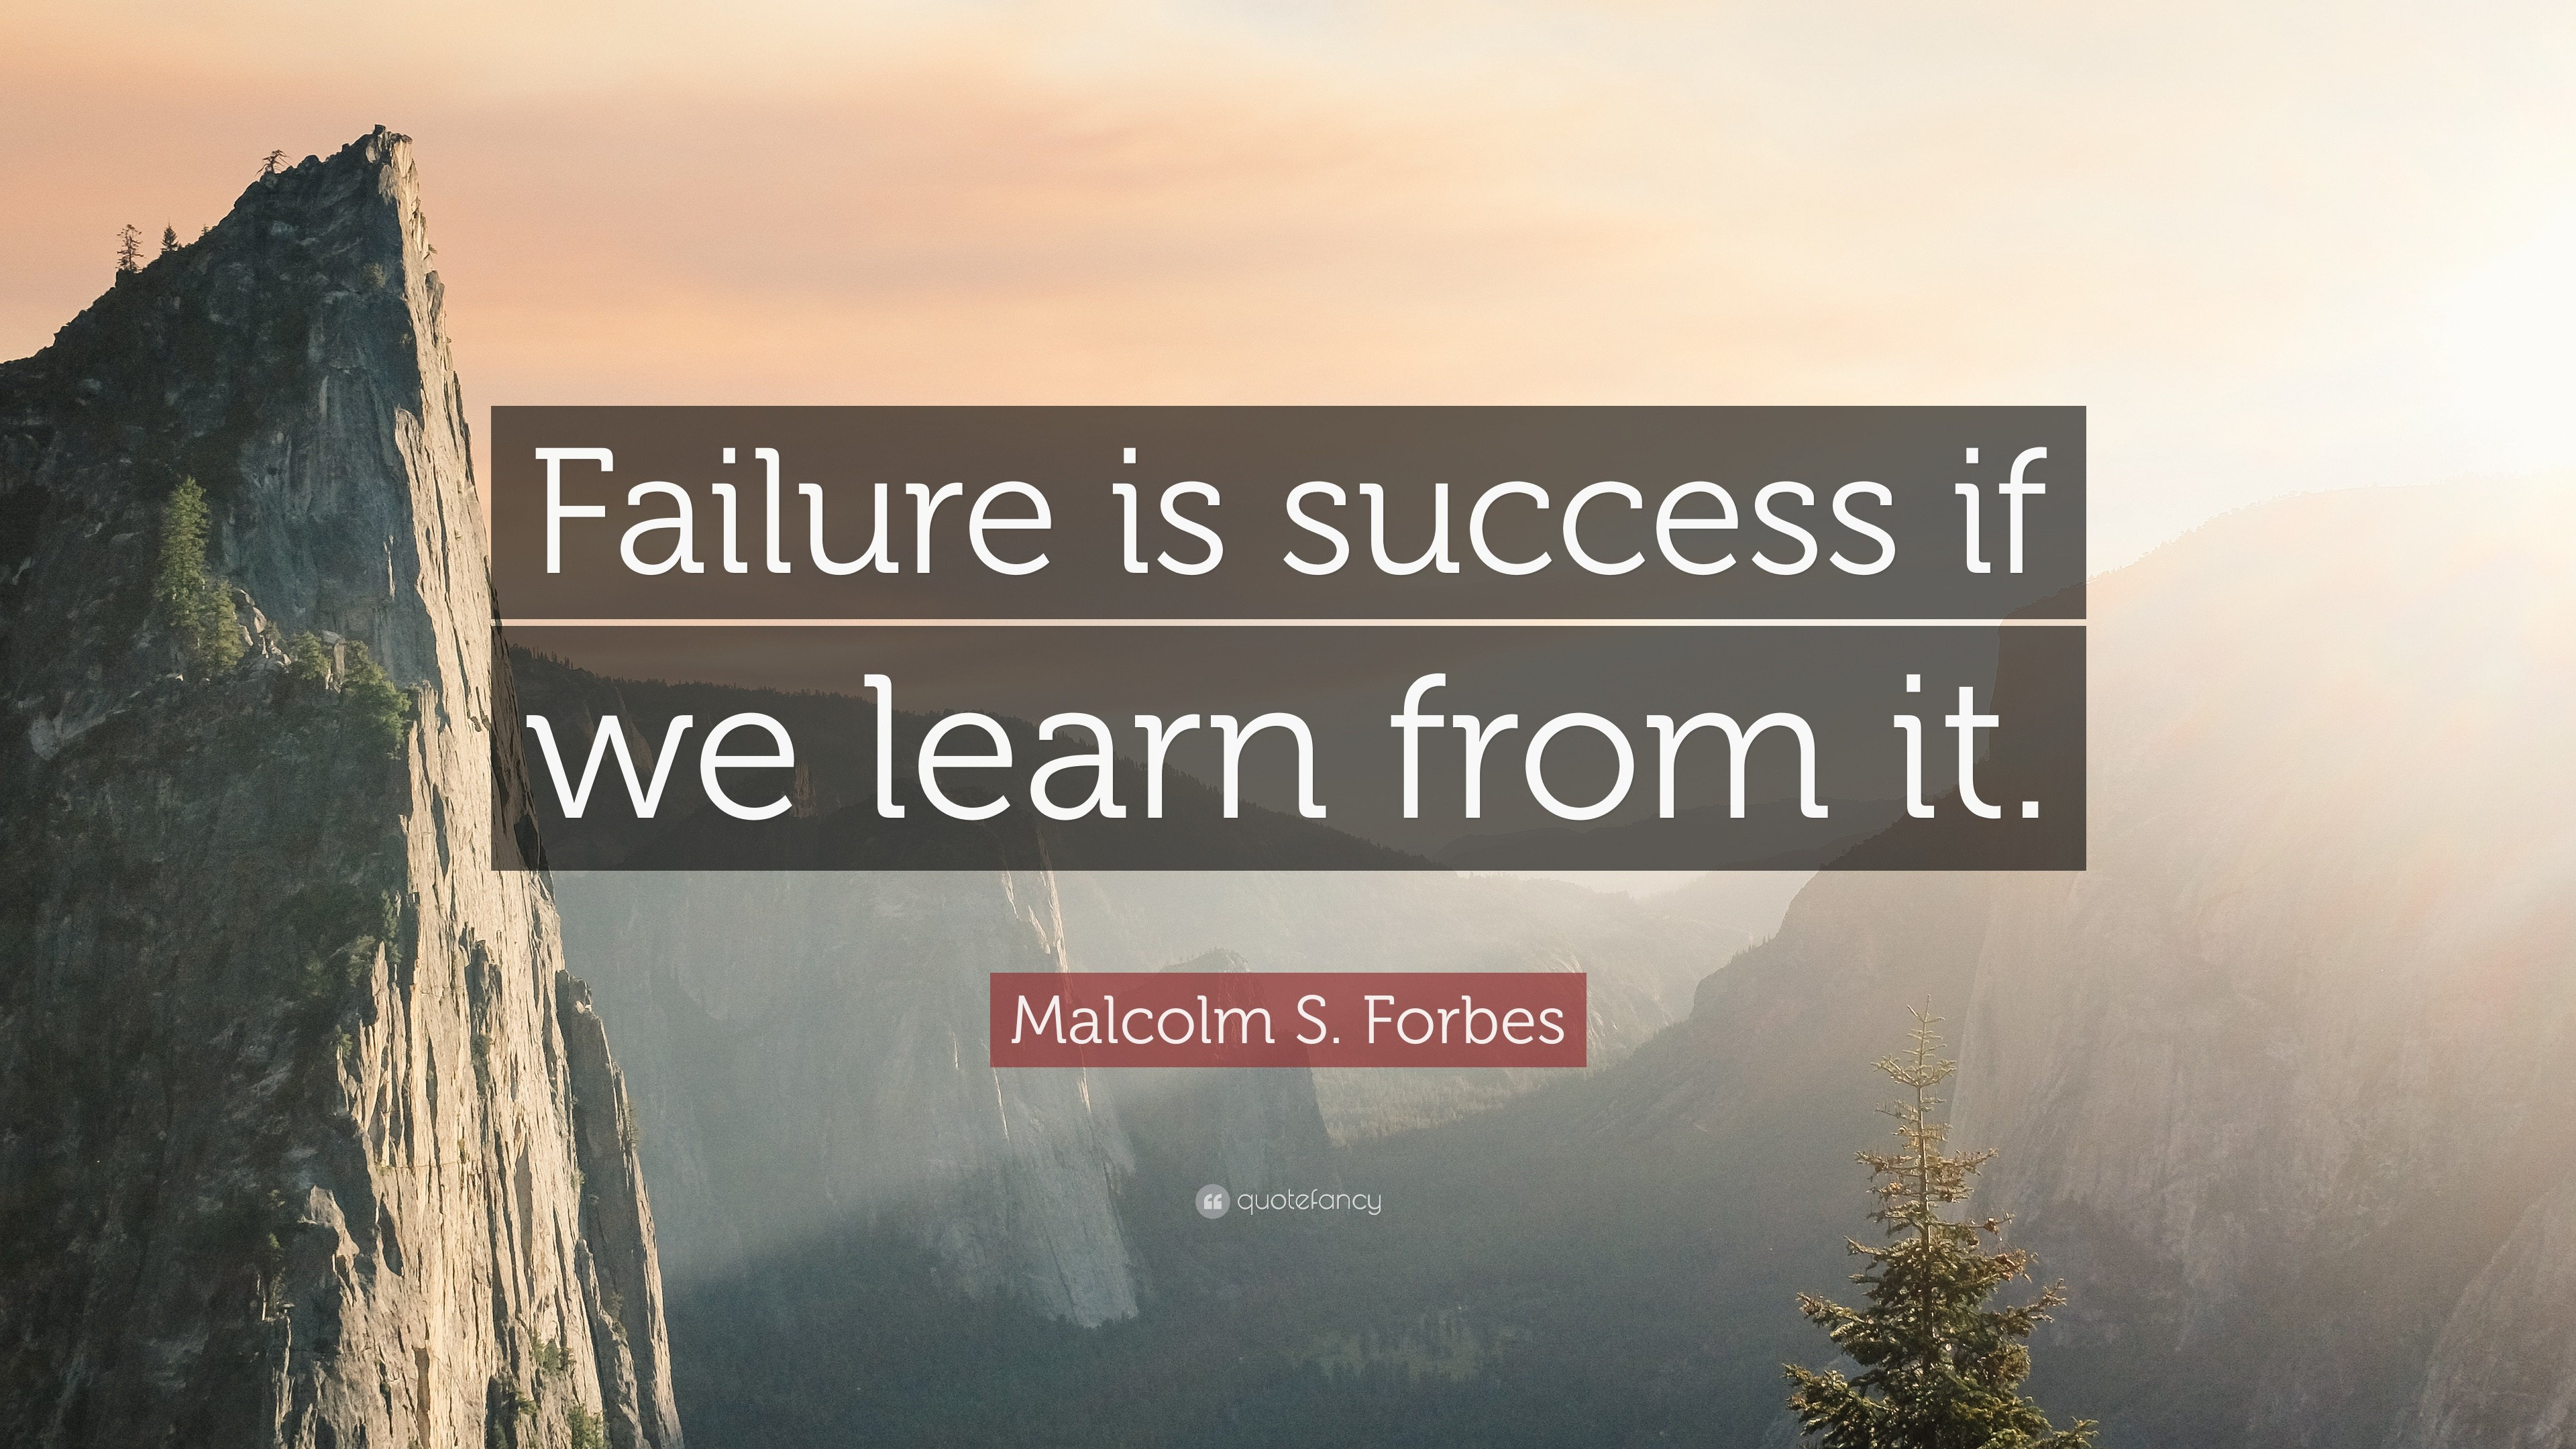latin: (518, 646, 2059, 839), (525, 416, 2063, 589), (1000, 982, 1578, 1049), (1237, 1184, 1391, 1217)
